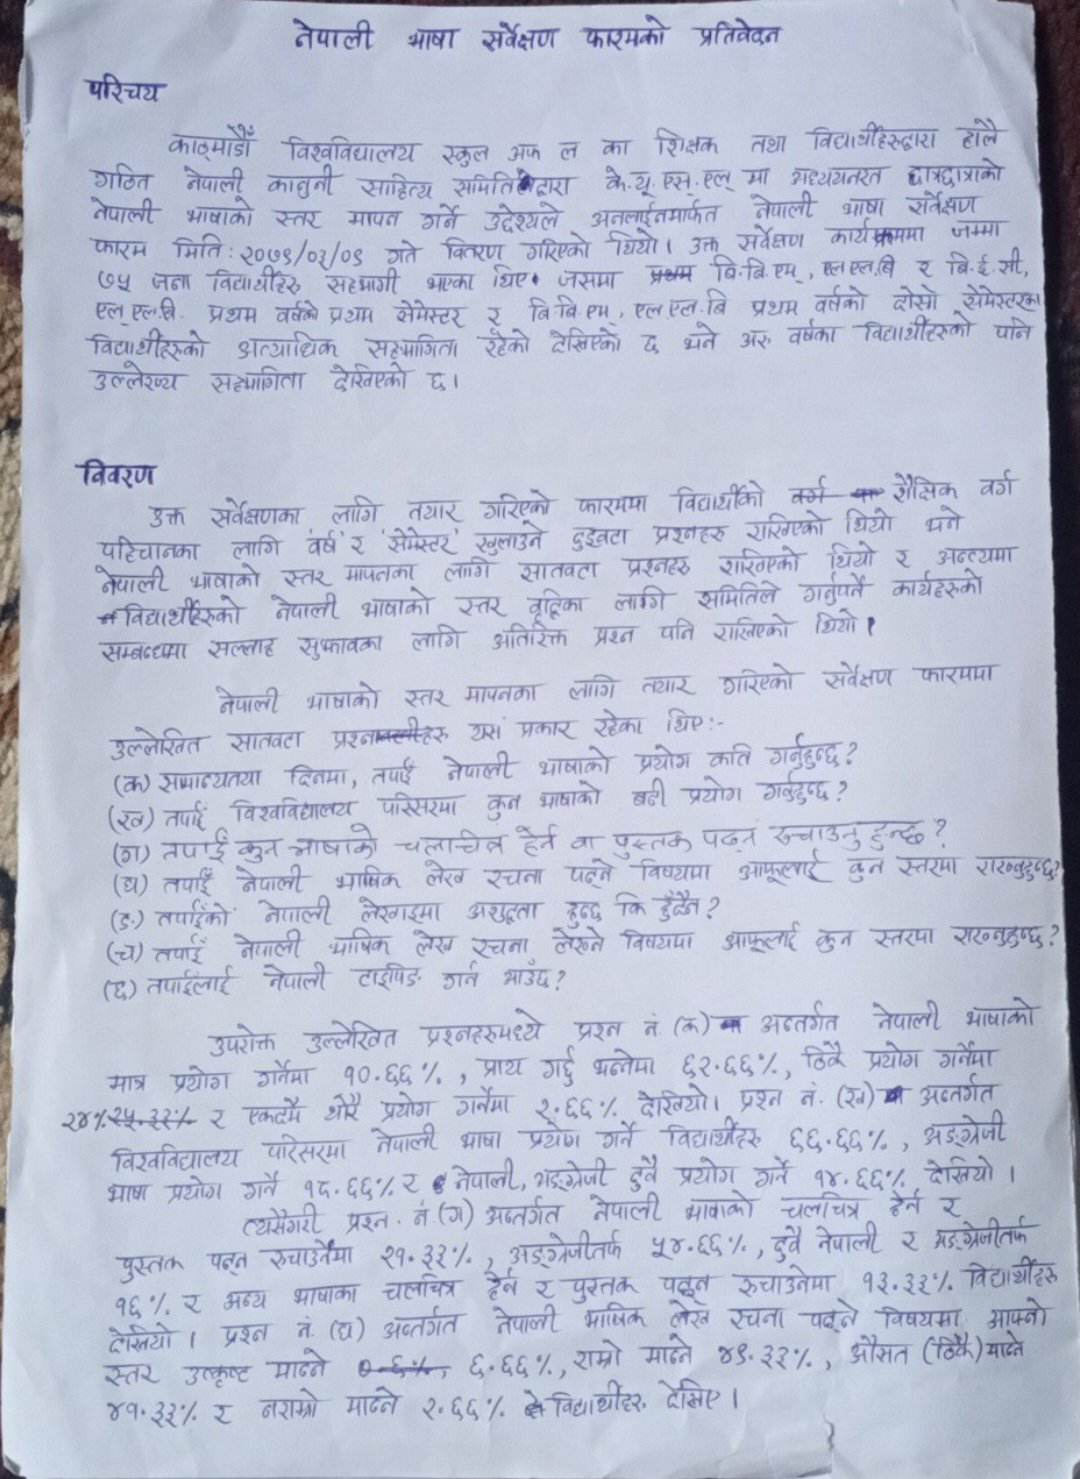text: (769, 813, 927, 852), (275, 130, 419, 165), (422, 1004, 547, 1044), (508, 1230, 627, 1270), (808, 119, 937, 155), (104, 1139, 240, 1172), (84, 327, 207, 363), (116, 596, 244, 629), (329, 714, 446, 750), (549, 1377, 646, 1419), (236, 240, 373, 270), (856, 312, 978, 346), (446, 169, 573, 200), (912, 1108, 1007, 1149), (200, 264, 305, 301), (108, 723, 205, 762), (165, 121, 257, 162), (287, 14, 376, 55), (962, 1254, 1059, 1292), (154, 762, 264, 796), (301, 1019, 401, 1055), (584, 202, 722, 229), (735, 1265, 836, 1301), (225, 798, 355, 826), (394, 826, 507, 857), (356, 330, 461, 363), (90, 362, 185, 398), (902, 154, 1007, 187), (735, 851, 832, 886), (932, 1218, 1035, 1252), (582, 13, 673, 51), (205, 497, 308, 531), (90, 534, 205, 563), (707, 254, 807, 287), (287, 827, 382, 861), (235, 330, 341, 361), (718, 919, 805, 957), (628, 287, 729, 319), (262, 1129, 350, 1166), (943, 917, 1048, 948), (690, 578, 780, 613), (946, 240, 1021, 282), (666, 480, 766, 512), (357, 891, 444, 928), (763, 730, 844, 769), (523, 292, 616, 325), (663, 1118, 763, 1149), (379, 1304, 458, 1344), (83, 69, 164, 107), (143, 968, 233, 1002), (775, 1192, 867, 1225), (93, 563, 173, 601), (261, 1240, 355, 1272), (655, 1373, 727, 1416), (715, 542, 802, 576), (205, 364, 309, 393), (234, 1205, 320, 1239), (892, 570, 987, 601), (864, 997, 945, 1033), (290, 628, 389, 658), (693, 16, 782, 49), (480, 200, 565, 234), (261, 165, 342, 201), (828, 219, 929, 248), (747, 508, 828, 543), (533, 744, 613, 780), (755, 771, 836, 806), (784, 162, 887, 189), (757, 1000, 840, 1035), (918, 1152, 1001, 1186), (90, 293, 178, 325), (73, 456, 158, 489), (479, 1197, 564, 1230), (546, 322, 623, 358), (961, 993, 1040, 1029), (533, 1155, 612, 1191), (611, 822, 692, 857), (258, 959, 340, 993), (209, 679, 282, 717), (207, 1019, 278, 1058), (566, 1269, 644, 1304), (976, 851, 1058, 884), (511, 553, 599, 584), (305, 677, 379, 714), (376, 1237, 450, 1273), (468, 519, 544, 555), (644, 1232, 728, 1264), (718, 664, 797, 698), (929, 540, 1021, 568), (355, 169, 437, 201), (889, 469, 962, 505), (180, 198, 257, 232), (821, 658, 898, 692), (487, 1302, 564, 1337), (376, 790, 461, 821), (258, 1384, 320, 1426), (96, 636, 192, 664), (112, 1247, 184, 1284), (716, 1339, 790, 1375), (358, 584, 434, 619), (809, 1223, 885, 1257), (648, 519, 732, 550), (87, 193, 157, 230), (784, 1124, 870, 1154), (476, 21, 559, 52), (916, 1075, 999, 1106), (477, 487, 554, 520), (634, 1083, 710, 1116), (585, 1192, 662, 1225), (958, 282, 1043, 312), (747, 185, 818, 220), (811, 1163, 887, 1197), (151, 898, 230, 930), (710, 614, 794, 644), (442, 749, 512, 784), (844, 1333, 914, 1369), (737, 220, 809, 255), (379, 1271, 459, 1302), (352, 958, 427, 991), (235, 864, 312, 896), (329, 362, 412, 392), (184, 562, 263, 593), (631, 855, 710, 886), (382, 526, 458, 558), (156, 833, 232, 865), (798, 571, 868, 605), (343, 1055, 415, 1089), (339, 1384, 404, 1420), (523, 584, 583, 625), (102, 1399, 179, 1430), (901, 187, 984, 216), (101, 1325, 172, 1358), (533, 782, 606, 814), (179, 1361, 252, 1393), (982, 1296, 1052, 1330), (857, 1265, 930, 1298), (484, 626, 576, 651), (394, 299, 468, 330), (619, 548, 693, 579), (682, 1046, 756, 1077), (257, 898, 334, 928), (620, 926, 696, 955), (448, 1161, 518, 1193), (337, 559, 422, 586), (877, 1304, 965, 1330), (465, 896, 539, 926), (682, 1191, 756, 1221), (809, 280, 873, 315), (608, 583, 673, 618), (236, 1094, 305, 1126), (290, 1277, 359, 1309), (575, 490, 648, 520), (370, 1126, 443, 1156), (589, 1048, 656, 1081), (912, 661, 999, 687), (269, 593, 341, 622), (332, 861, 401, 892), (580, 1301, 648, 1332), (320, 268, 401, 294), (233, 930, 306, 959), (568, 1339, 626, 1376), (250, 1059, 316, 1091), (655, 127, 723, 158), (165, 1061, 233, 1092), (378, 1091, 436, 1126), (675, 1156, 741, 1187), (266, 1352, 333, 1383), (177, 164, 246, 194), (599, 162, 656, 198), (205, 634, 277, 663), (468, 1349, 534, 1380), (90, 161, 150, 194), (522, 237, 596, 264), (326, 927, 394, 957), (933, 1039, 1001, 1069), (459, 682, 543, 706), (528, 1091, 598, 1120), (300, 1175, 375, 1201), (651, 1270, 720, 1299), (469, 928, 533, 959), (864, 1040, 925, 1073), (437, 237, 511, 263), (452, 1084, 508, 1118), (90, 234, 149, 266), (226, 529, 286, 562), (893, 854, 959, 883), (956, 114, 1008, 150), (477, 326, 533, 361), (802, 1301, 857, 1335), (484, 861, 547, 891), (822, 256, 900, 280), (163, 1175, 222, 1207), (172, 229, 225, 264), (319, 1089, 368, 1126), (228, 728, 305, 752), (550, 926, 609, 957), (841, 504, 899, 536), (562, 855, 615, 890), (437, 553, 496, 584), (679, 779, 743, 807), (421, 1394, 484, 1423), (217, 1284, 273, 1316), (536, 1050, 583, 1087), (101, 1362, 161, 1392), (407, 620, 465, 651), (557, 264, 621, 292), (797, 1040, 852, 1073), (215, 1318, 270, 1350), (643, 1337, 698, 1369), (570, 522, 629, 552), (204, 299, 261, 330), (150, 935, 207, 966), (523, 1121, 580, 1152), (868, 926, 937, 951), (607, 226, 661, 258), (511, 822, 558, 859), (656, 886, 704, 923), (401, 496, 466, 522), (402, 22, 461, 51), (321, 301, 381, 330), (566, 671, 623, 700), (591, 707, 648, 737), (727, 1304, 786, 1333), (626, 1149, 665, 1193), (283, 762, 348, 789), (158, 868, 212, 899), (500, 958, 554, 989), (929, 1330, 973, 1366), (412, 201, 461, 234), (704, 742, 756, 773), (437, 142, 494, 171), (469, 1051, 528, 1078), (480, 1268, 523, 1304), (370, 758, 421, 789), (275, 564, 333, 591), (636, 669, 693, 697), (807, 607, 861, 636), (813, 922, 857, 957), (634, 746, 694, 772), (889, 282, 939, 313), (329, 494, 379, 525), (511, 717, 577, 739), (696, 824, 759, 849), (768, 1222, 805, 1263), (143, 264, 194, 294), (409, 927, 459, 957), (577, 1015, 626, 1046), (984, 1330, 1032, 1361), (565, 896, 609, 929), (783, 319, 837, 347), (454, 593, 508, 620), (732, 1086, 788, 1113), (340, 1207, 391, 1236), (948, 215, 1007, 240), (883, 1185, 923, 1222), (658, 706, 707, 736), (627, 777, 669, 812), (976, 469, 1023, 500), (828, 540, 876, 570), (682, 318, 723, 353), (457, 1126, 508, 1154), (747, 127, 790, 161), (421, 861, 468, 891), (749, 1159, 797, 1188), (240, 1169, 283, 1201), (343, 206, 404, 229), (670, 1298, 713, 1330), (270, 299, 321, 325), (919, 505, 971, 532), (208, 1248, 251, 1279), (832, 196, 891, 219), (163, 800, 208, 830), (989, 315, 1035, 343), (490, 261, 533, 292), (273, 206, 323, 232), (402, 684, 451, 711), (102, 1179, 151, 1206), (233, 837, 280, 865), (748, 296, 805, 319), (591, 622, 637, 650), (56, 1102, 91, 1139), (484, 789, 522, 821), (302, 529, 345, 557), (846, 855, 889, 883), (438, 965, 482, 992), (658, 614, 699, 643), (656, 167, 693, 199), (147, 501, 187, 529), (599, 1121, 639, 1149), (94, 266, 135, 294), (424, 272, 476, 293), (382, 237, 419, 265), (104, 1071, 150, 1094), (114, 1291, 146, 1323), (176, 1286, 205, 1321), (687, 230, 721, 260), (596, 135, 634, 161), (736, 325, 770, 353), (699, 169, 741, 191), (209, 1401, 242, 1428), (506, 141, 547, 163), (465, 720, 506, 741), (617, 892, 648, 919), (939, 1191, 966, 1219), (115, 808, 146, 834), (840, 1085, 869, 1112), (640, 1012, 663, 1042), (743, 165, 774, 187), (441, 1200, 466, 1226), (639, 330, 662, 358), (345, 529, 368, 558), (292, 1312, 312, 1344), (406, 1201, 429, 1229), (116, 841, 141, 865), (891, 544, 912, 572), (397, 1169, 419, 1197), (898, 1226, 919, 1254), (568, 833, 600, 851), (483, 302, 506, 327), (112, 908, 135, 934), (529, 1275, 551, 1301), (425, 369, 449, 392), (121, 771, 141, 797), (800, 1082, 819, 1109), (121, 869, 139, 897), (112, 942, 135, 963), (111, 976, 129, 1004), (207, 1104, 227, 1126), (336, 1321, 356, 1344), (916, 254, 934, 278), (561, 142, 580, 163)
